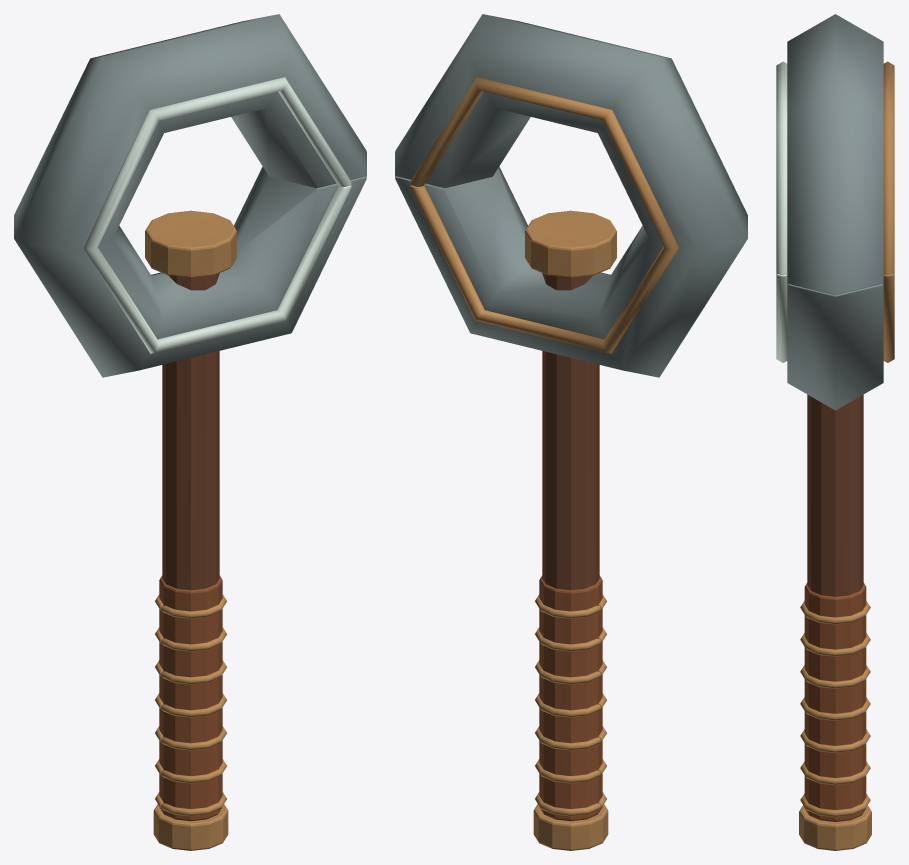
File: item_010.glb
3 views of the same model, side by side, from view 1: azimuth 30°, elevation 25°; view 2: azimuth 150°, elevation 25°; view 3: azimuth 270°, elevation 25° (orthographic). The views are drawn at different scales.
Visible parts, largest first — view 1: Item_010_hex_nut_club; view 2: Item_010_hex_nut_club; view 3: Item_010_hex_nut_club.
Part boxes in pixels (<box>): Item_010_hex_nut_club: <box>14,14,366,850</box>; Item_010_hex_nut_club: <box>395,14,747,850</box>; Item_010_hex_nut_club: <box>776,14,894,850</box>.
Size of the model in its own units: 0.6083 by 1.32 by 0.1808.
